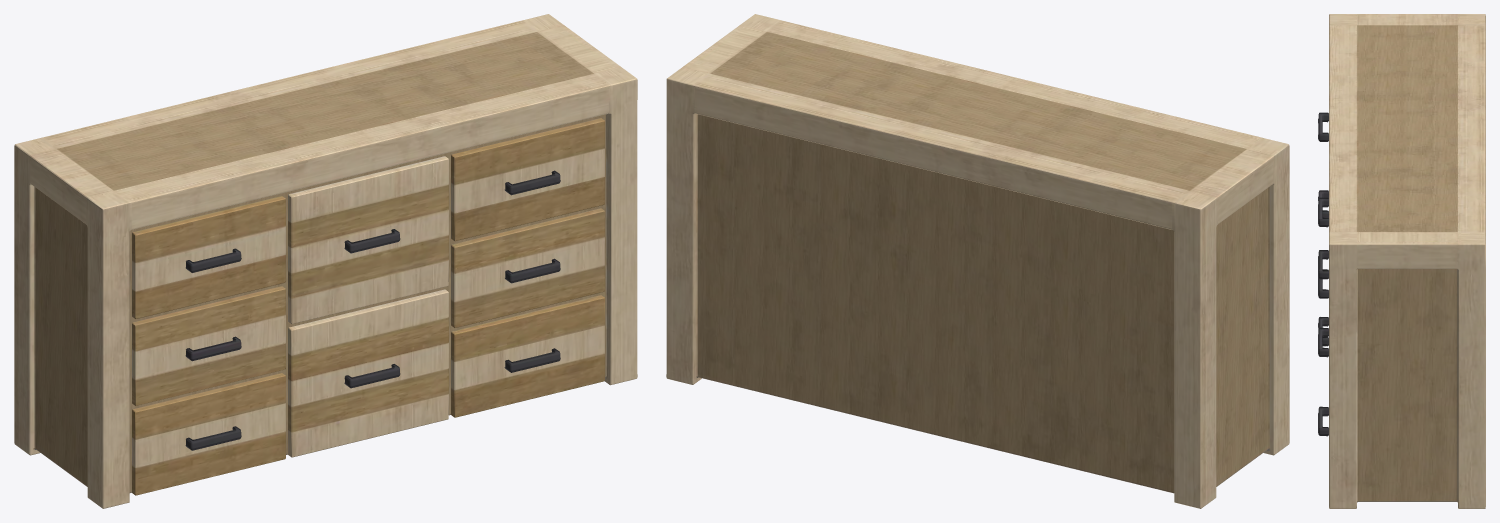
The model's file is 308b256a-984b-459e-9fda-fd50208abb17.glb.
The picture shows the model from 3 angles, left to right: view 1: azimuth 30°, elevation 25°; view 2: azimuth 150°, elevation 25°; view 3: azimuth 270°, elevation 25°; orthographic projection. The views are drawn at different scales.
Parts seen in each view (by area): view 1: Recycled Wood Chest Of Drawers; view 2: Recycled Wood Chest Of Drawers; view 3: Recycled Wood Chest Of Drawers.
Part boxes in pixels (box(x1,y1,x2,y2)): Recycled Wood Chest Of Drawers: box(14, 14, 637, 508); Recycled Wood Chest Of Drawers: box(666, 14, 1289, 508); Recycled Wood Chest Of Drawers: box(1318, 14, 1485, 508).
Size of the model in its own units: 1.57 by 0.84 by 0.4814.
Materials: 1 (1 with a texture image).
